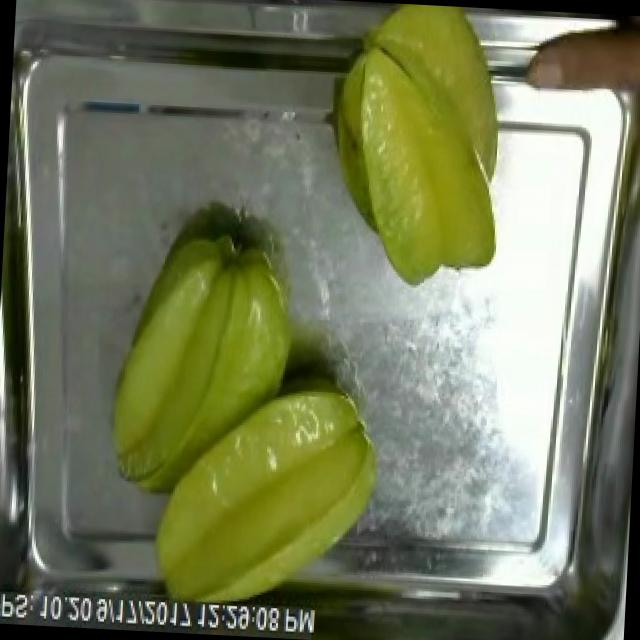fruit: (92, 215, 311, 515), (134, 373, 392, 624), (330, 3, 520, 296)
